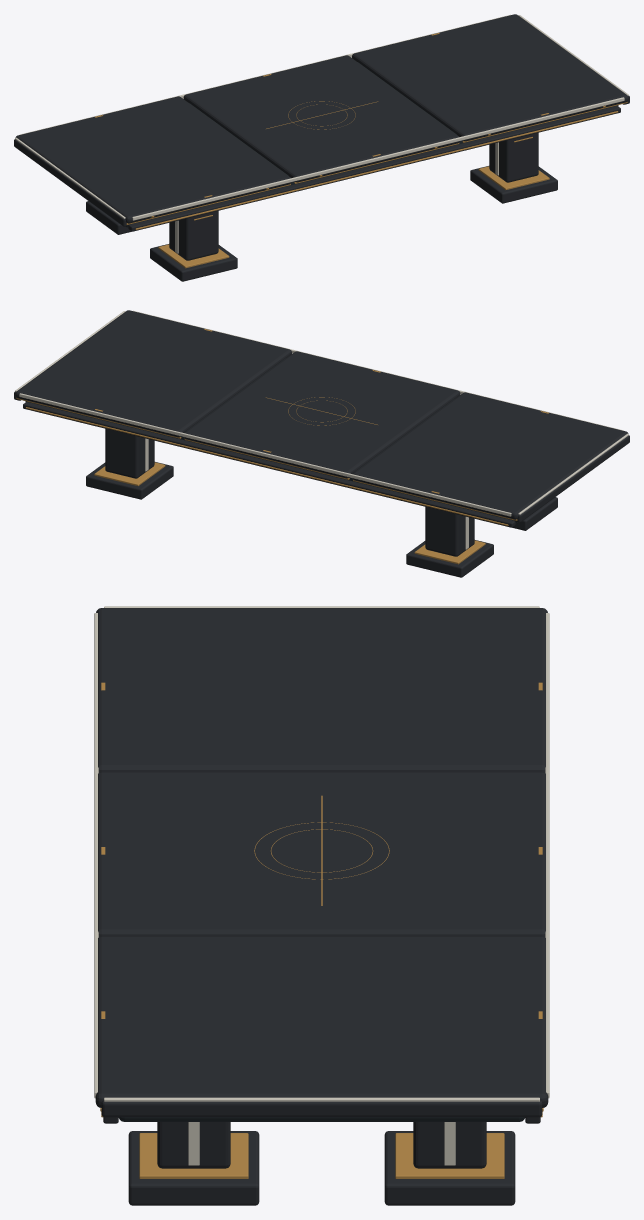
Rendered from SM_Aurelion_KIT_Z11ConversationTable.fbx.
3 views of the same model, one above another, from view 1: azimuth 30°, elevation 25°; view 2: azimuth 150°, elevation 25°; view 3: azimuth 270°, elevation 25° (orthographic). The views are drawn at different scales.
Parts seen in each view (by area): view 1: SM_Aurelion_KIT_Z11ConversationTable; view 2: SM_Aurelion_KIT_Z11ConversationTable; view 3: SM_Aurelion_KIT_Z11ConversationTable.
Boxes of the visible parts, <box> form: SM_Aurelion_KIT_Z11ConversationTable: <box>14,14,629,281</box>; SM_Aurelion_KIT_Z11ConversationTable: <box>14,310,629,577</box>; SM_Aurelion_KIT_Z11ConversationTable: <box>94,606,549,1205</box>.
Bounding box in the file's own units: 494 × 192 × 80.05.
